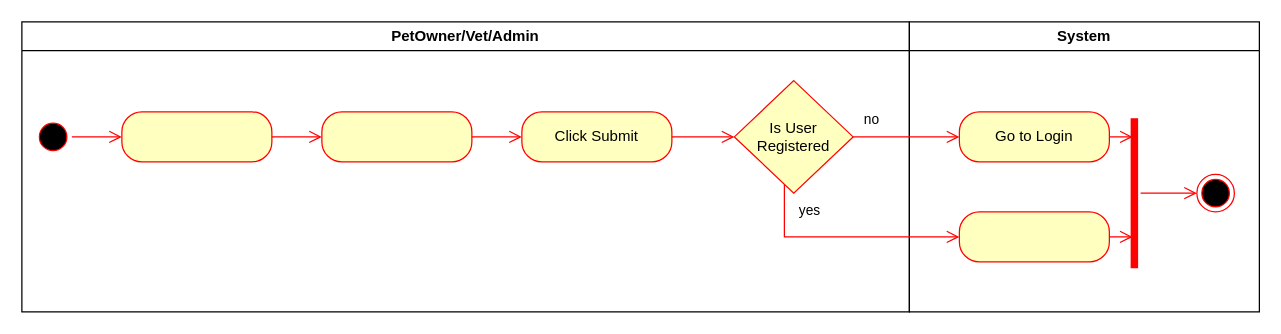
Some shapes in this 1281 by 334 pixel diagram are drawn without their labels. The centre of each missing label's shape, as x and y in pixels:
"Click Sign Up Button" belongs at point (196, 136).
"Fill in the Registration Form" belongs at point (396, 136).
"Register User" belongs at point (1033, 236).
